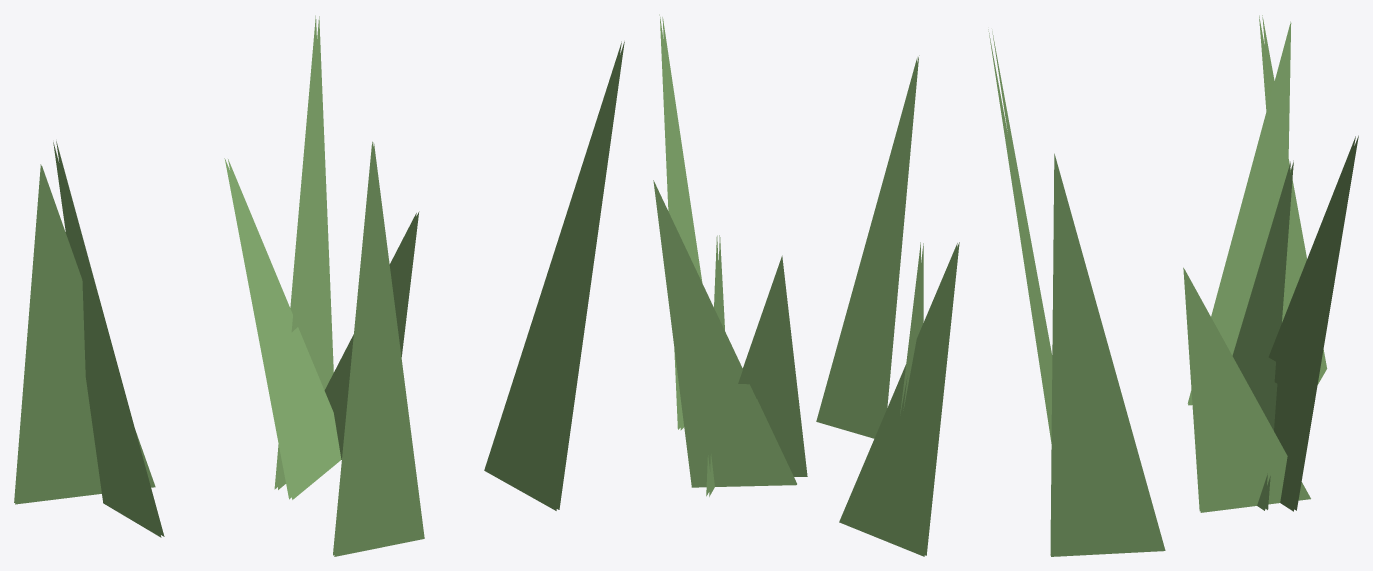
File: grass_tuft_a.glb
The picture shows the model from 3 angles, left to right: view 1: azimuth 30°, elevation 25°; view 2: azimuth 150°, elevation 25°; view 3: azimuth 270°, elevation 25°; orthographic projection. The views are drawn at different scales.
Visible parts, largest first — view 1: grass_tuft_a; view 2: grass_tuft_a; view 3: grass_tuft_a.
Part boxes in pixels (bbox=[...]): grass_tuft_a: bbox=[14, 15, 624, 556]; grass_tuft_a: bbox=[653, 14, 959, 556]; grass_tuft_a: bbox=[988, 15, 1358, 556].
Size of the model in its own units: 0.594 by 0.5386 by 0.4167.
